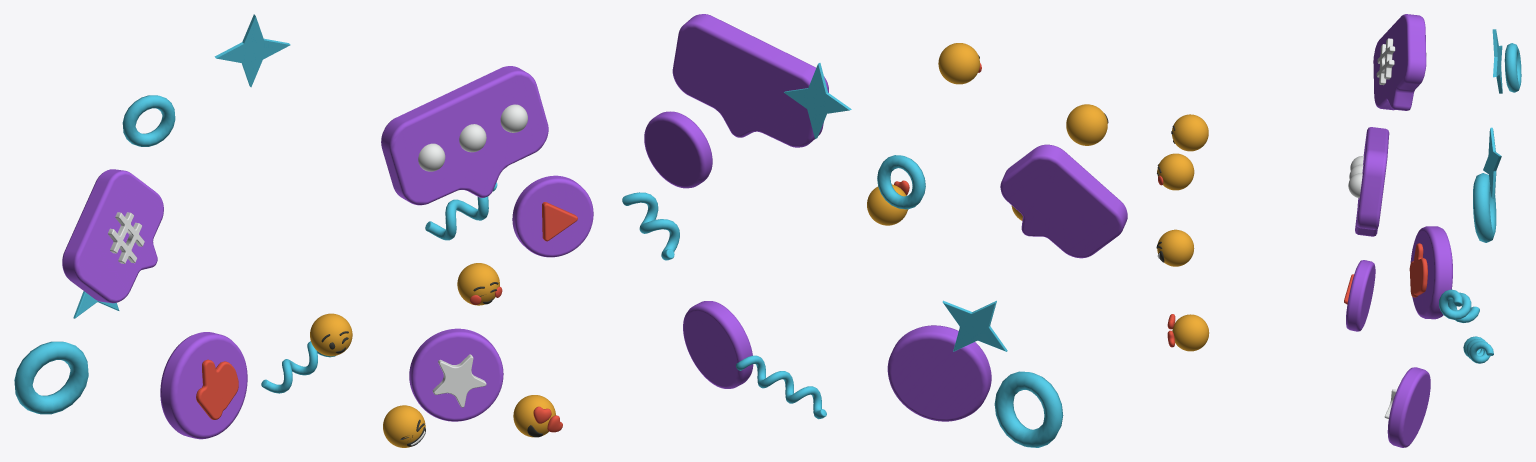
The model's file is smileys-transformed.glb.
The picture shows the model from 3 angles, left to right: view 1: azimuth 30°, elevation 25°; view 2: azimuth 150°, elevation 25°; view 3: azimuth 270°, elevation 25°; orthographic projection. The views are drawn at different scales.
Parts seen in each view (by area): view 1: points, hash, Ellipse, star.001, play, torus, torus.001, Star 2, heart, blush, laugh, blink (+2 smaller); view 2: points, hash, Ellipse, star.001, play, torus, star, torus.001, Star 2, blush, blink, helix (+2 smaller); view 3: hash, Ellipse, points, star.001, play, torus, heart, blush, laugh, blink, helix.001, torus.001 (+3 smaller).
Boxes of the visible parts, box(x1,y1,x2,y2) form: points: box(381, 66, 548, 205); hash: box(62, 169, 163, 303); Ellipse: box(160, 332, 247, 439); star.001: box(409, 328, 503, 421); play: box(512, 175, 593, 257); torus: box(14, 341, 88, 414); torus.001: box(122, 95, 175, 146); Star 2: box(214, 14, 290, 87); heart: box(513, 395, 562, 437); blush: box(457, 263, 502, 305); laugh: box(383, 405, 425, 447); blink: box(310, 313, 352, 356); points: box(672, 14, 828, 147); hash: box(1000, 144, 1127, 258); Ellipse: box(887, 325, 991, 421); star.001: box(683, 301, 753, 388); play: box(644, 111, 712, 188); torus: box(994, 371, 1063, 447); star: box(942, 300, 1007, 351); torus.001: box(877, 155, 925, 209); Star 2: box(784, 63, 851, 138); blush: box(938, 43, 981, 84); blink: box(1066, 104, 1108, 145); helix: box(736, 355, 826, 419); hash: box(1373, 14, 1426, 110); Ellipse: box(1409, 226, 1452, 319); points: box(1348, 127, 1389, 236); star.001: box(1384, 367, 1430, 447); play: box(1344, 260, 1375, 331); torus: box(1473, 173, 1496, 242); heart: box(1167, 314, 1209, 351); blush: box(1157, 153, 1194, 190); laugh: box(1156, 229, 1194, 266); blink: box(1171, 114, 1208, 151); helix.001: box(1439, 289, 1479, 322); torus.001: box(1504, 43, 1521, 92).
Bounding box in the file's own units: 132 × 101 × 94.73.
1 material, 1 textured.
